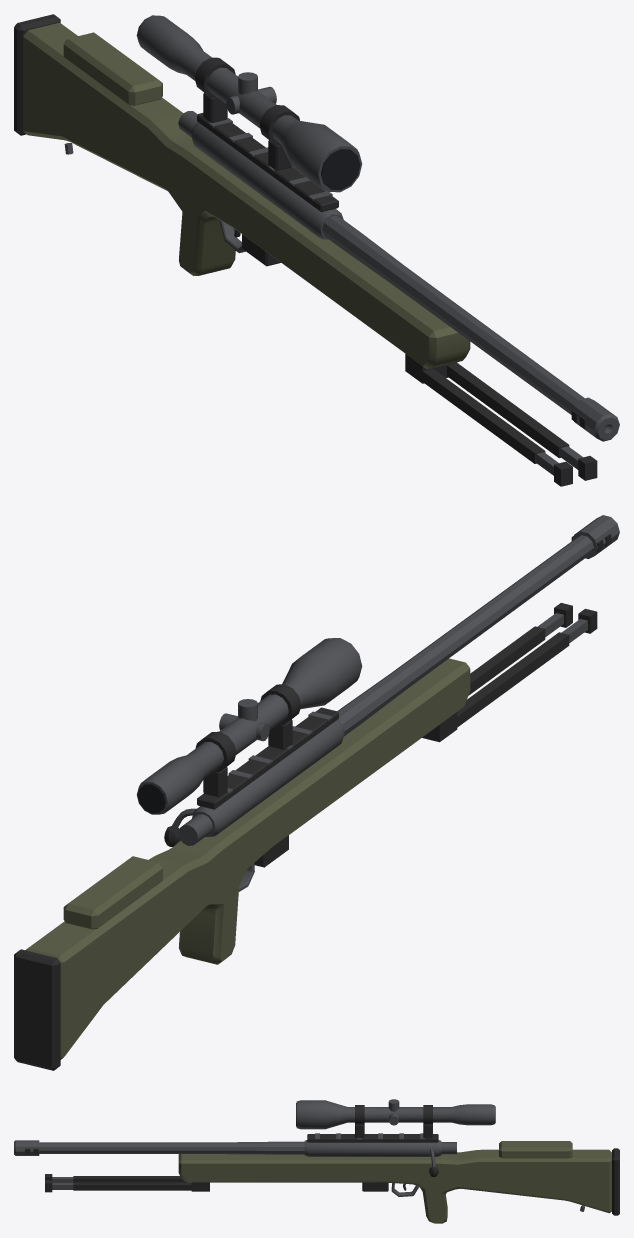
The model's file is PropSniper.fbx.
3 renders of one model, top to bottom at view 1: azimuth 30°, elevation 25°; view 2: azimuth 150°, elevation 25°; view 3: azimuth 270°, elevation 25°, orthographic. The views are drawn at different scales.
Parts seen in each view (by area): view 1: PropSniper_Mesh; view 2: PropSniper_Mesh; view 3: PropSniper_Mesh.
Part boxes in pixels (box(x1,y1,x2,y2)): PropSniper_Mesh: box(14, 14, 619, 486); PropSniper_Mesh: box(14, 515, 619, 1070); PropSniper_Mesh: box(14, 1099, 619, 1223).
Bounding box in the file's own units: 0.0795 × 0.248 × 1.15.
